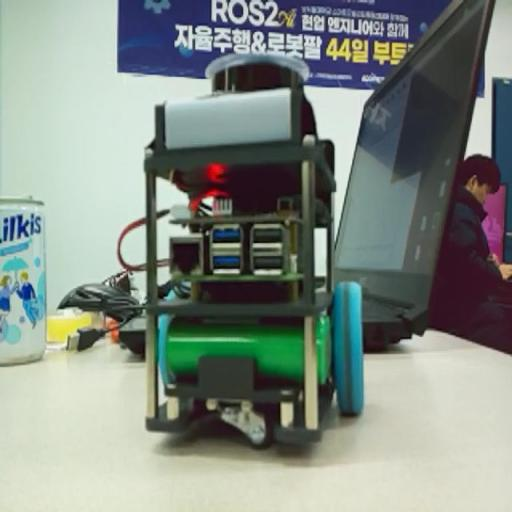pinky_63: (118, 45, 376, 451)
